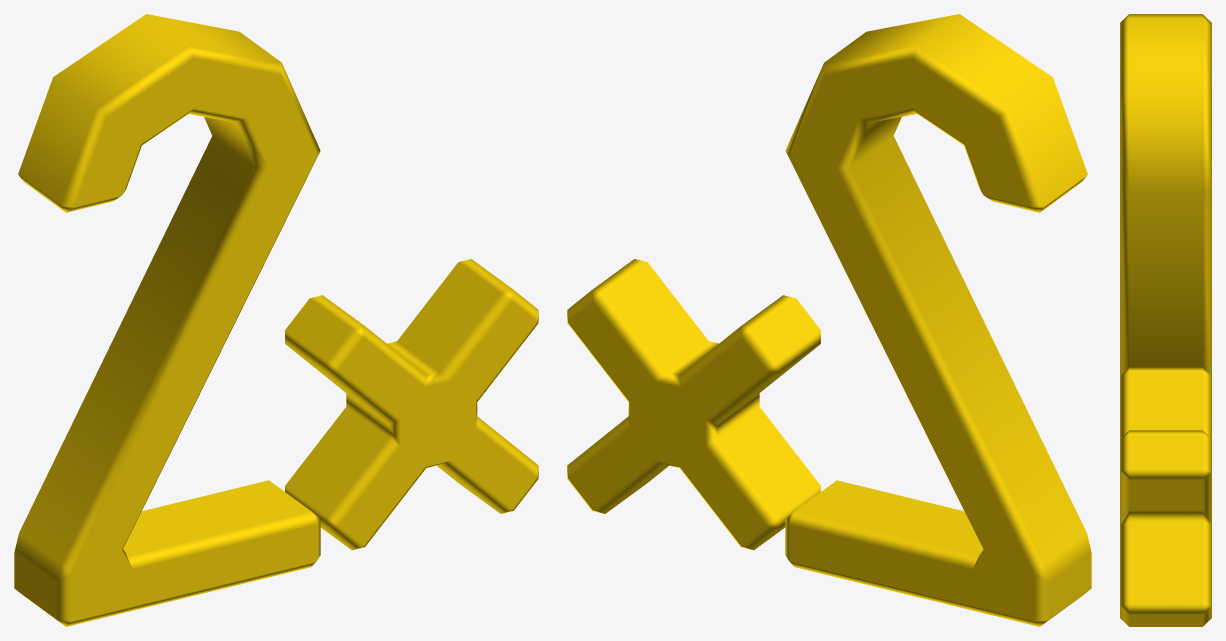
The model's file is CoinMultiplier.fbx.
The picture shows the model from 3 angles, left to right: view 1: azimuth 30°, elevation 25°; view 2: azimuth 150°, elevation 25°; view 3: azimuth 270°, elevation 25°; orthographic projection. The views are drawn at different scales.
Parts seen in each view (by area): view 1: CoinMultiplier; view 2: CoinMultiplier; view 3: CoinMultiplier.
Boxes of the visible parts, box(x1,y1,x2,y2) form: CoinMultiplier: box(14, 14, 538, 626); CoinMultiplier: box(567, 14, 1091, 626); CoinMultiplier: box(1120, 14, 1211, 626).
Size of the model in its own units: 1.56 by 1.71 by 0.2974.
